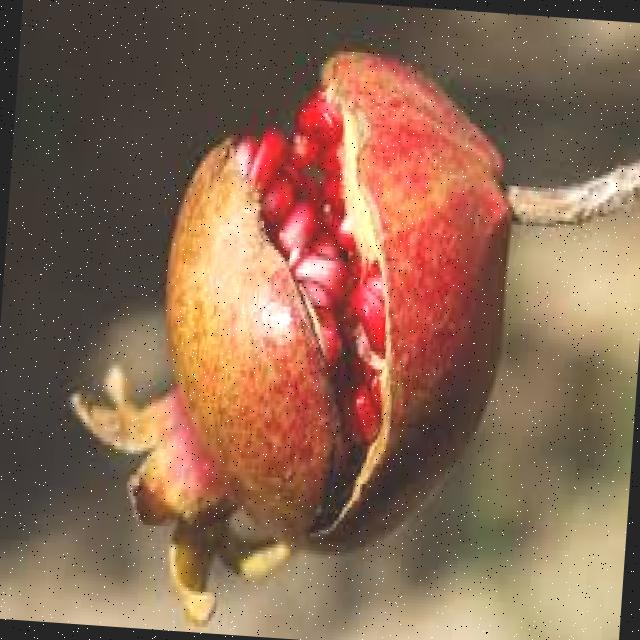overripe: (53, 23, 532, 640)
